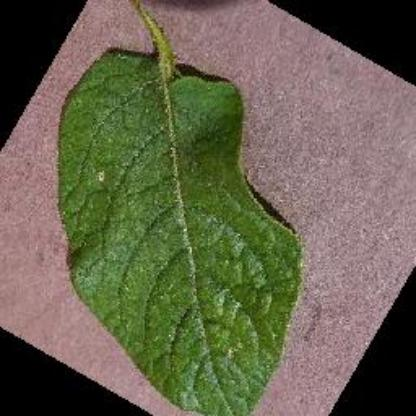Healthy-plant: (54, 10, 312, 410)
